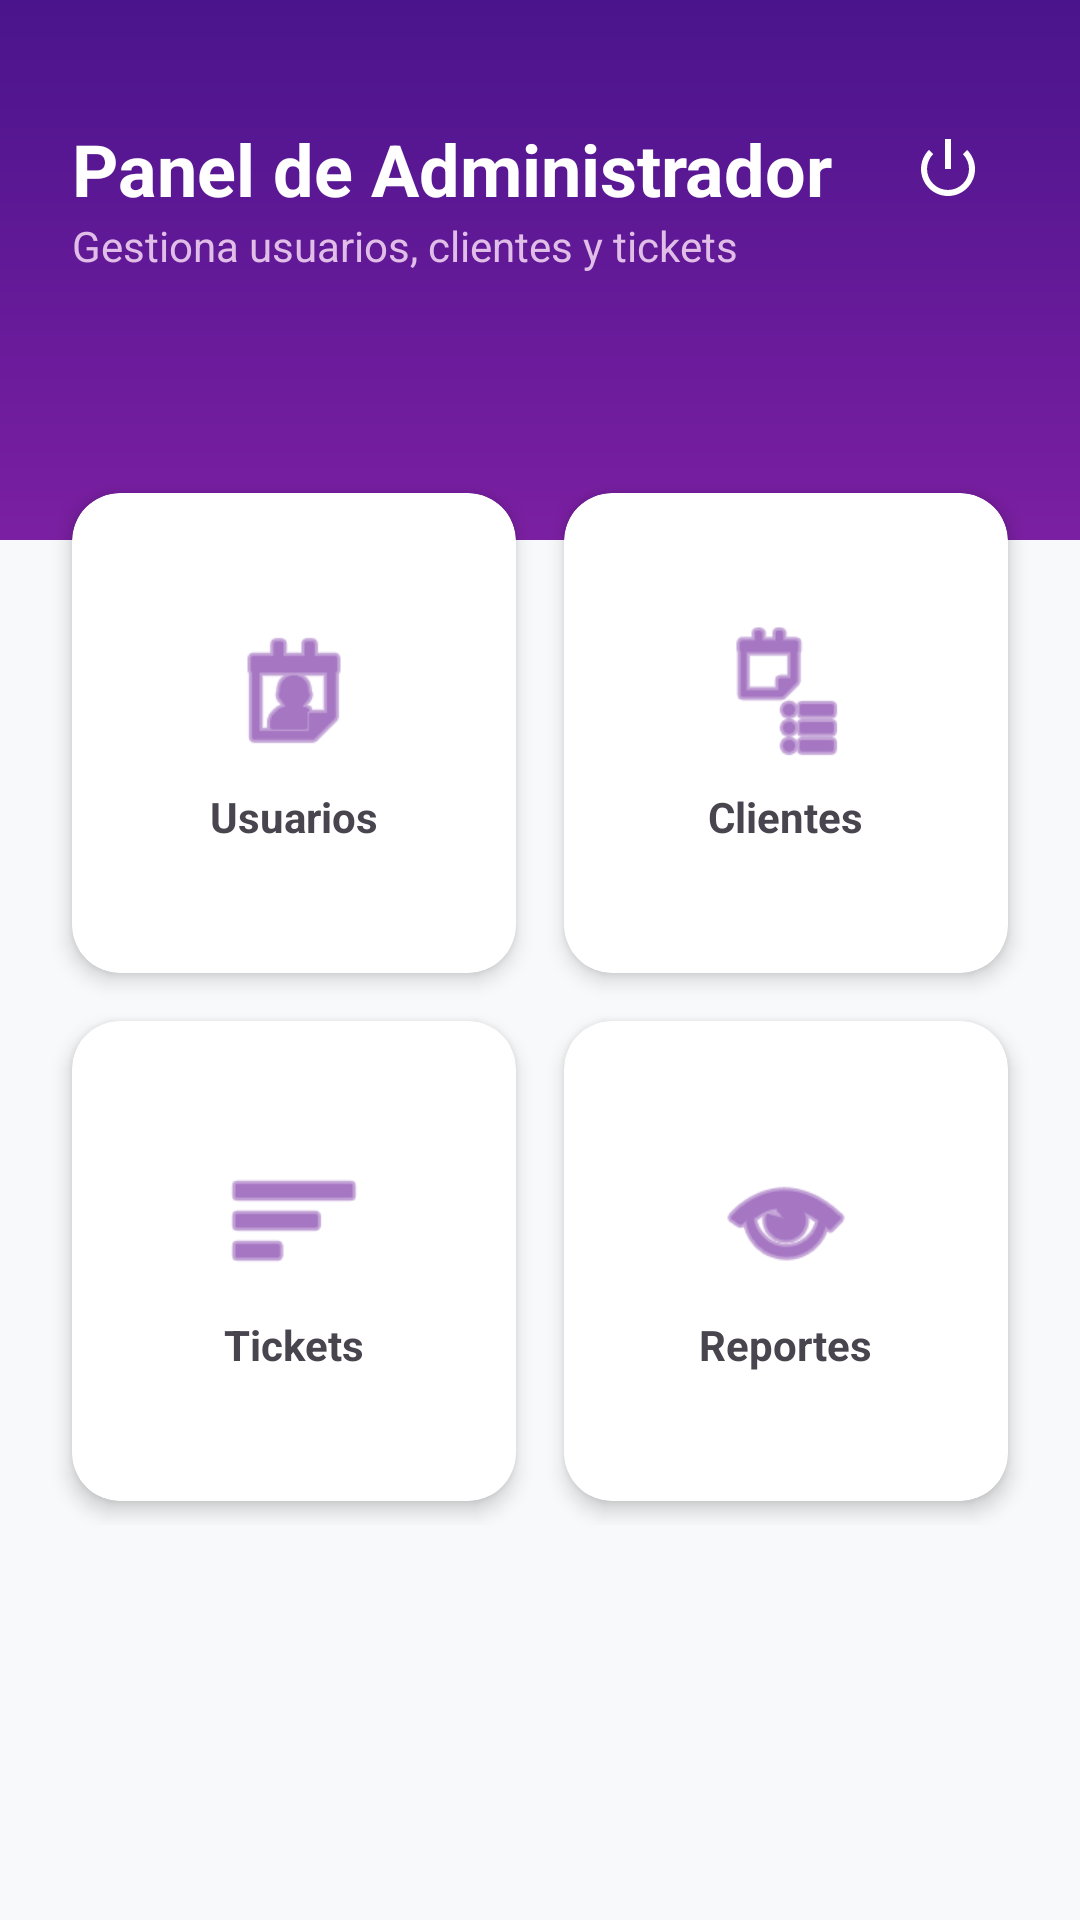

Where to tap for icons on this 1080x1920 app screen, as (x,y):
agenda: (786,691)
calendar: (294,690)
lock power off: (948,167)
sort by size: (294,1220)
view: (786,1224)
